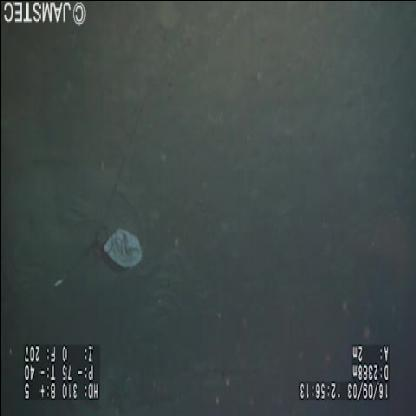Rác: (93, 220, 146, 276)
